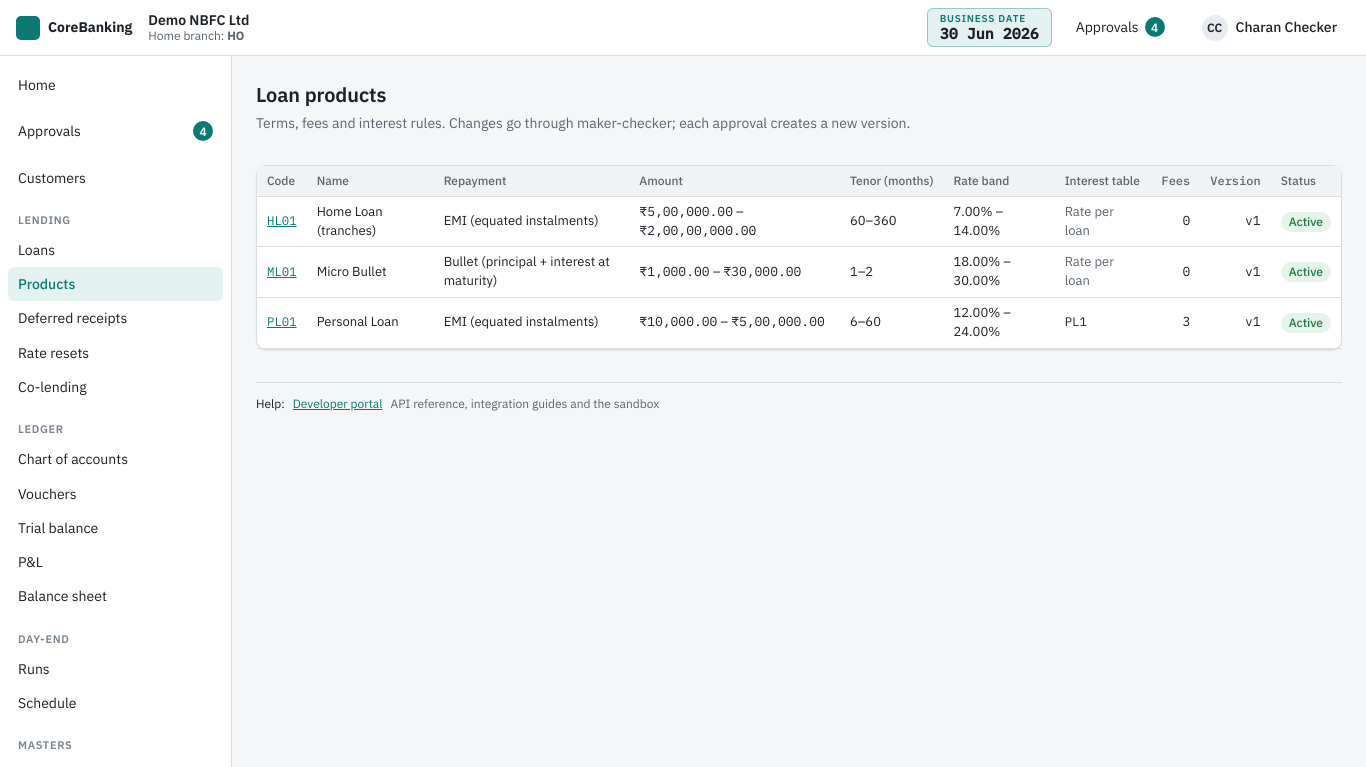
it: loan products › lists products and shows terms, fees and the interest table
Expected: the heading "Loan products" is shown, [256,81,386,108]
Expected: the text "Personal Loan" is shown, [307,298,434,348]
Click the row named "Open product PL01". click: (799, 323)
box: [257,298,1341,348]
(page scrolled)
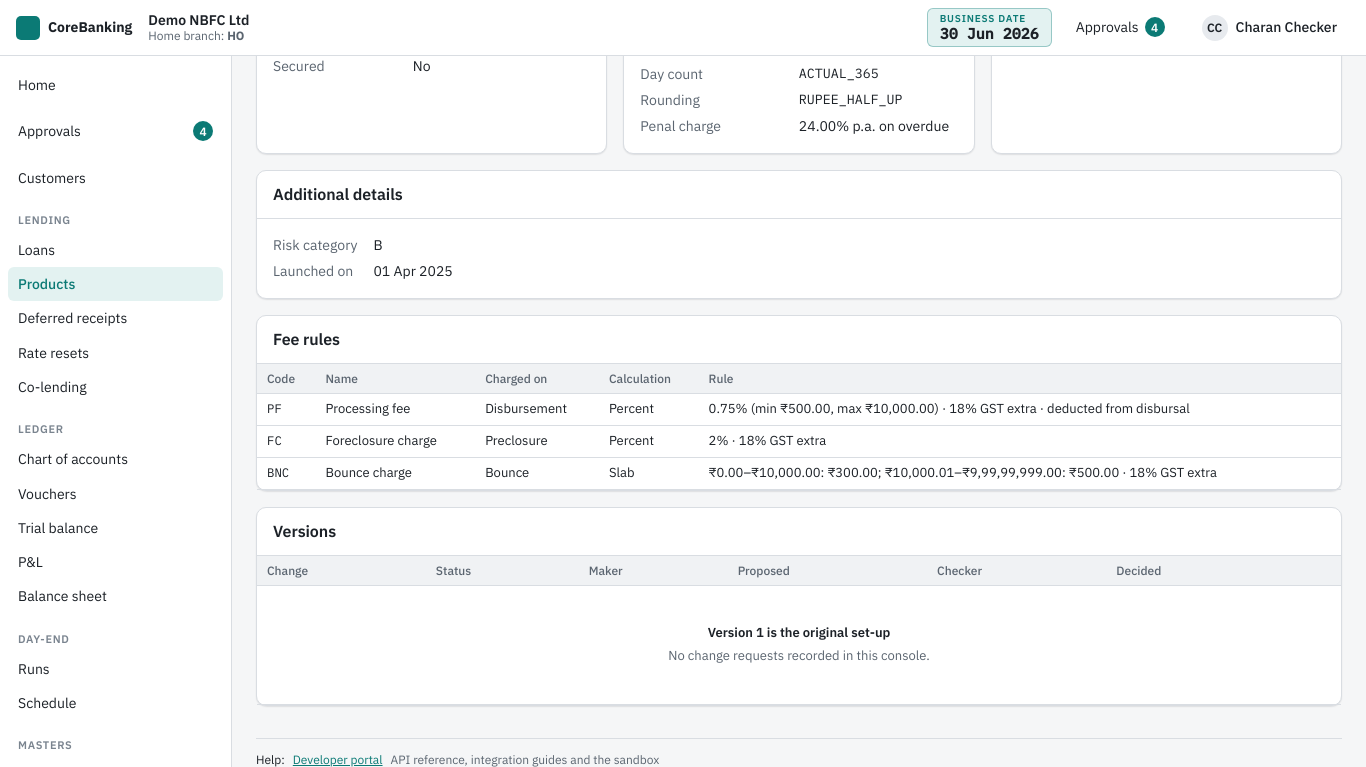
Expected: the text "0.75% (min ₹500.00, max ₹10,000.00)" is shown, [709,400,1190,417]
